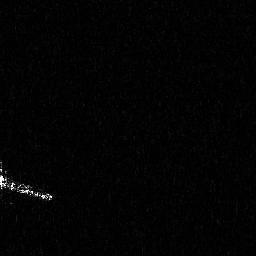ship: (1, 158, 56, 203)
